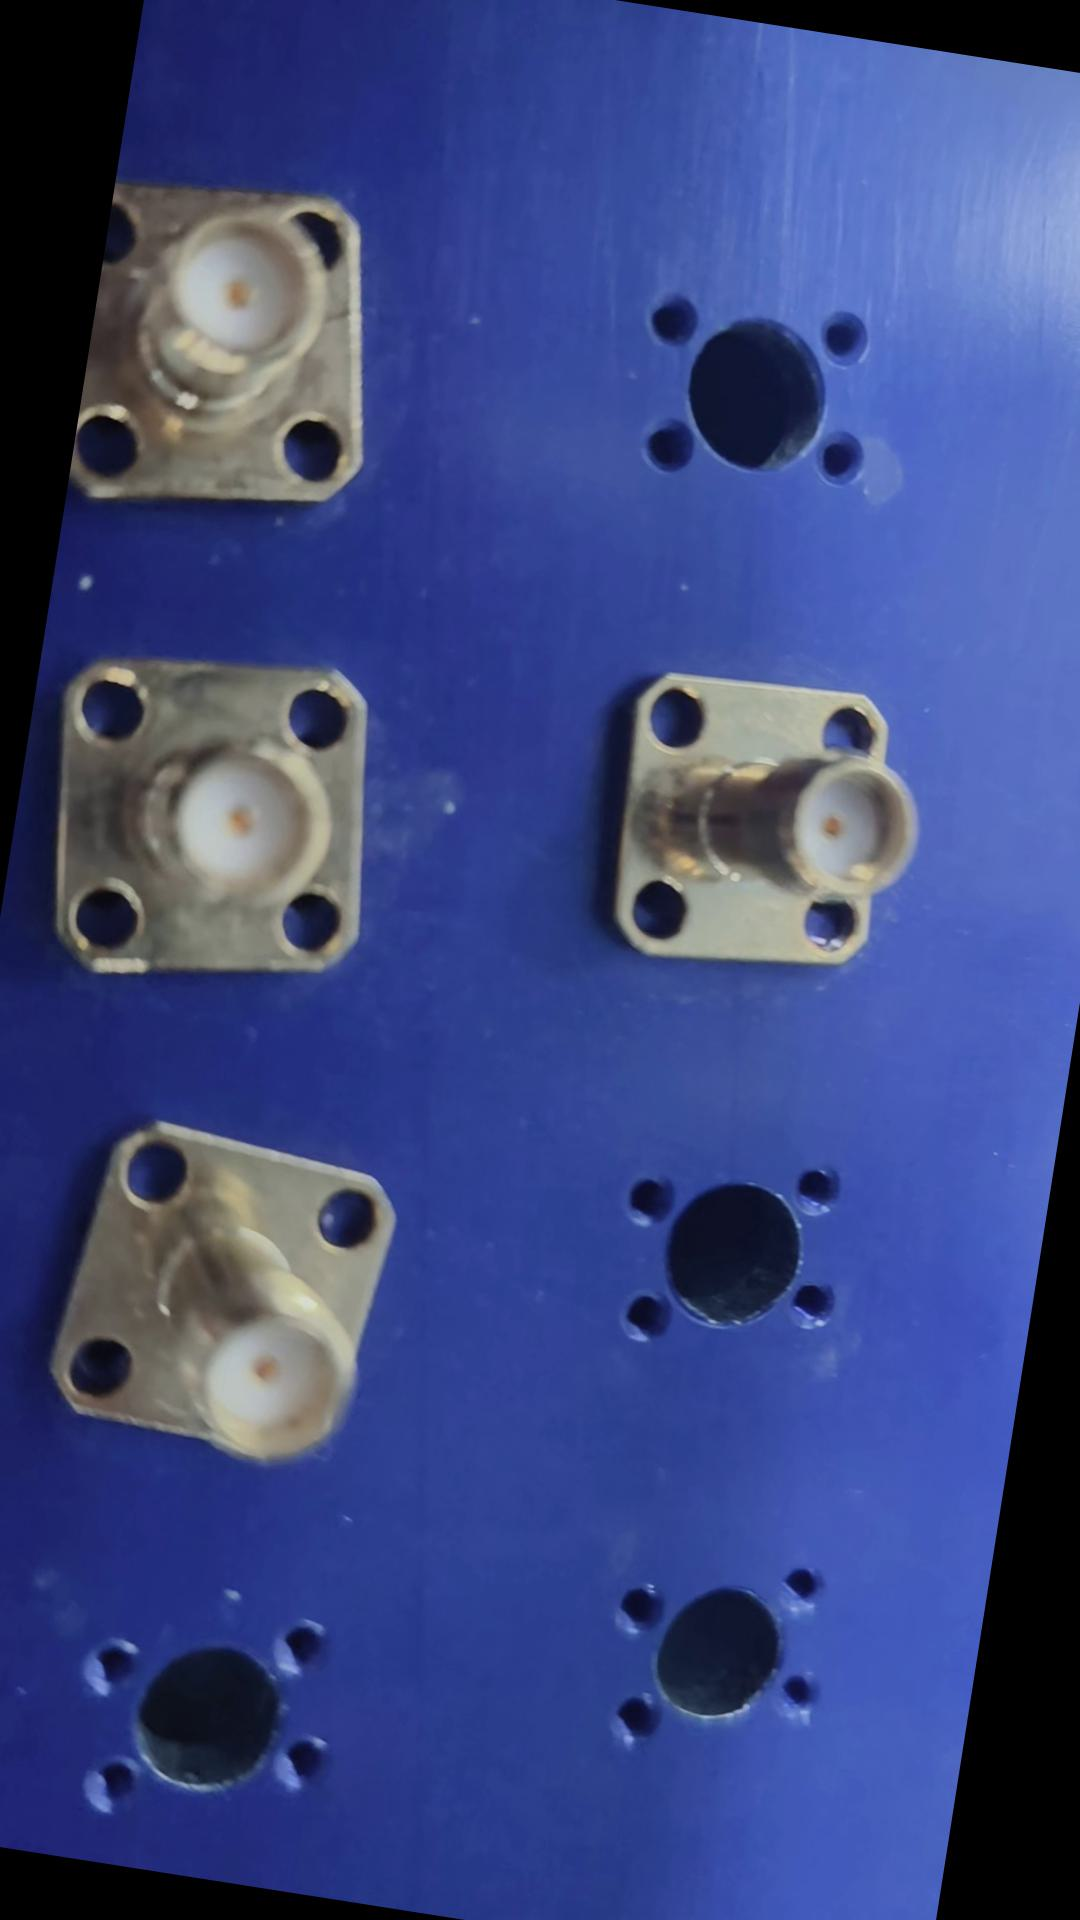SMA: (28, 634, 401, 1013), (34, 1116, 430, 1472), (65, 160, 415, 551), (578, 641, 938, 1000)
